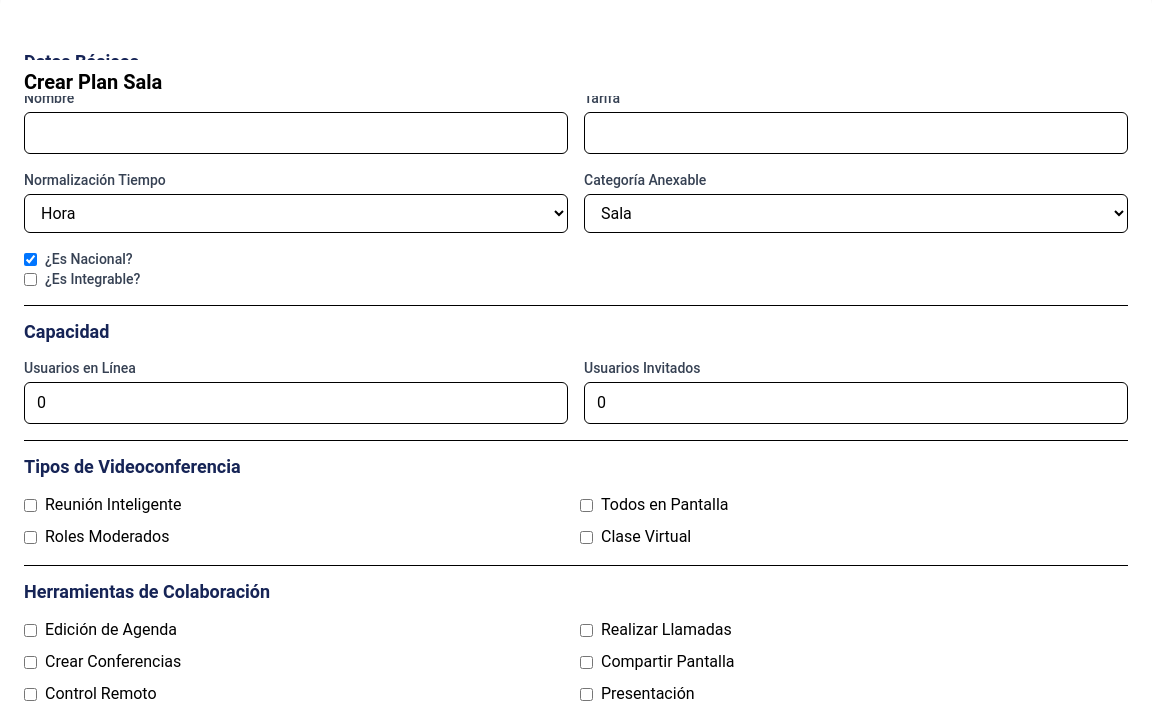
PlanSalaForm › debe mostrar error con tarifa negativa
Expected: the heading "Crear Plan Sala" is shown, x1=24 y1=60 x2=1128 y2=96
Type "-1" into the number field below "Tarifa".
click(856, 133); type("-1")  # box x1=584 y1=112 x2=1128 y2=154
(page scrolled)
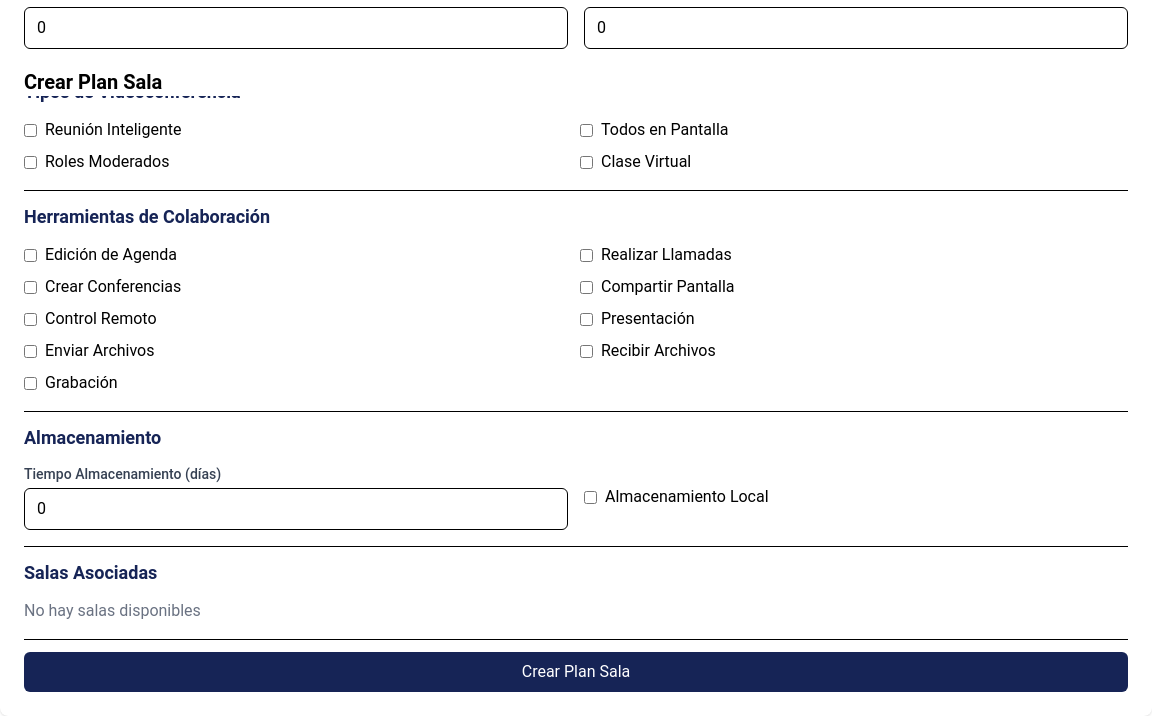
Click the button "Crear Plan Sala".
click(576, 672)  # box x1=24 y1=652 x2=1128 y2=692
(page scrolled)
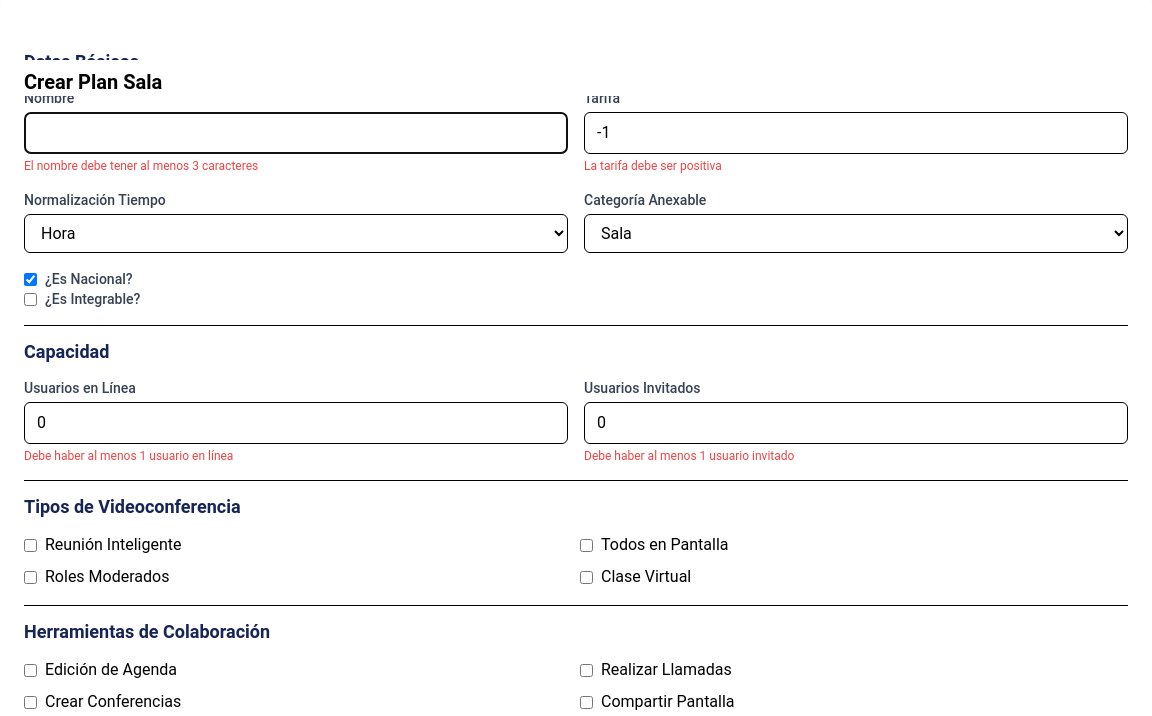
Result: the text "La tarifa debe ser positiva" is shown at x1=584 y1=159 x2=722 y2=173
